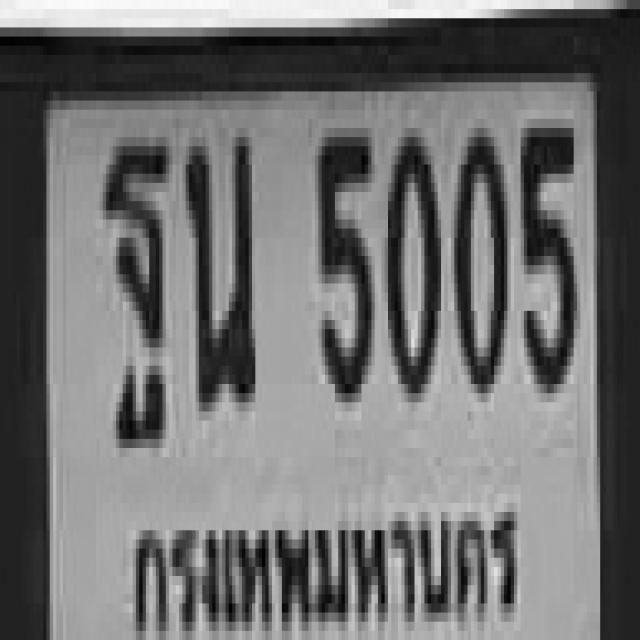0: (384, 128, 438, 393), (451, 119, 504, 384)
25ThorThan: (99, 137, 166, 412)
34NorNu: (182, 128, 252, 402)
5: (517, 119, 574, 384), (315, 128, 368, 393)
Bangkok: (129, 484, 517, 640)
